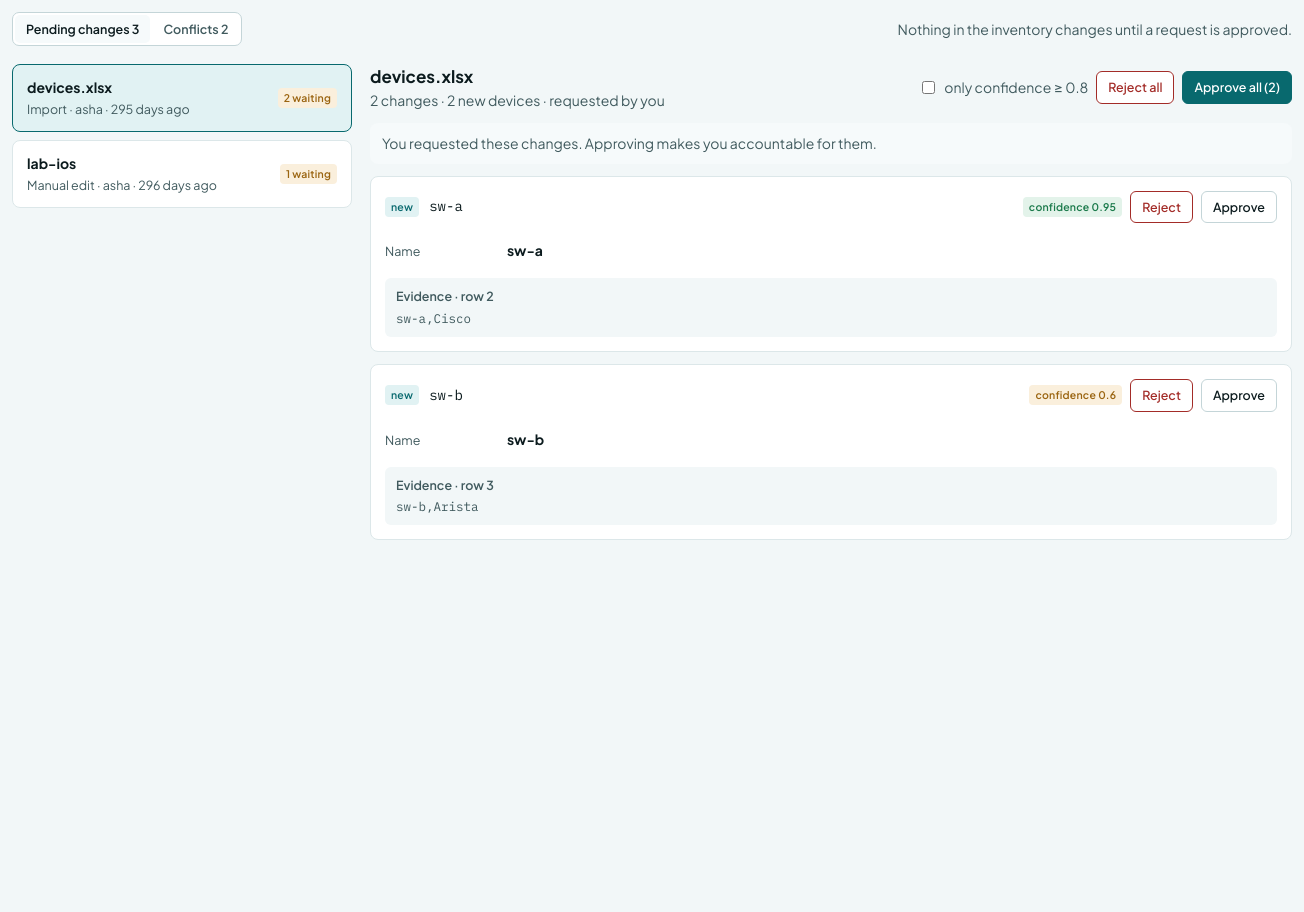
Test: Conflicts › switches queue, shows current vs observed and the counts
Click the button "Conflicts 2" at coordinates (196, 29), box [152,15,239,43]
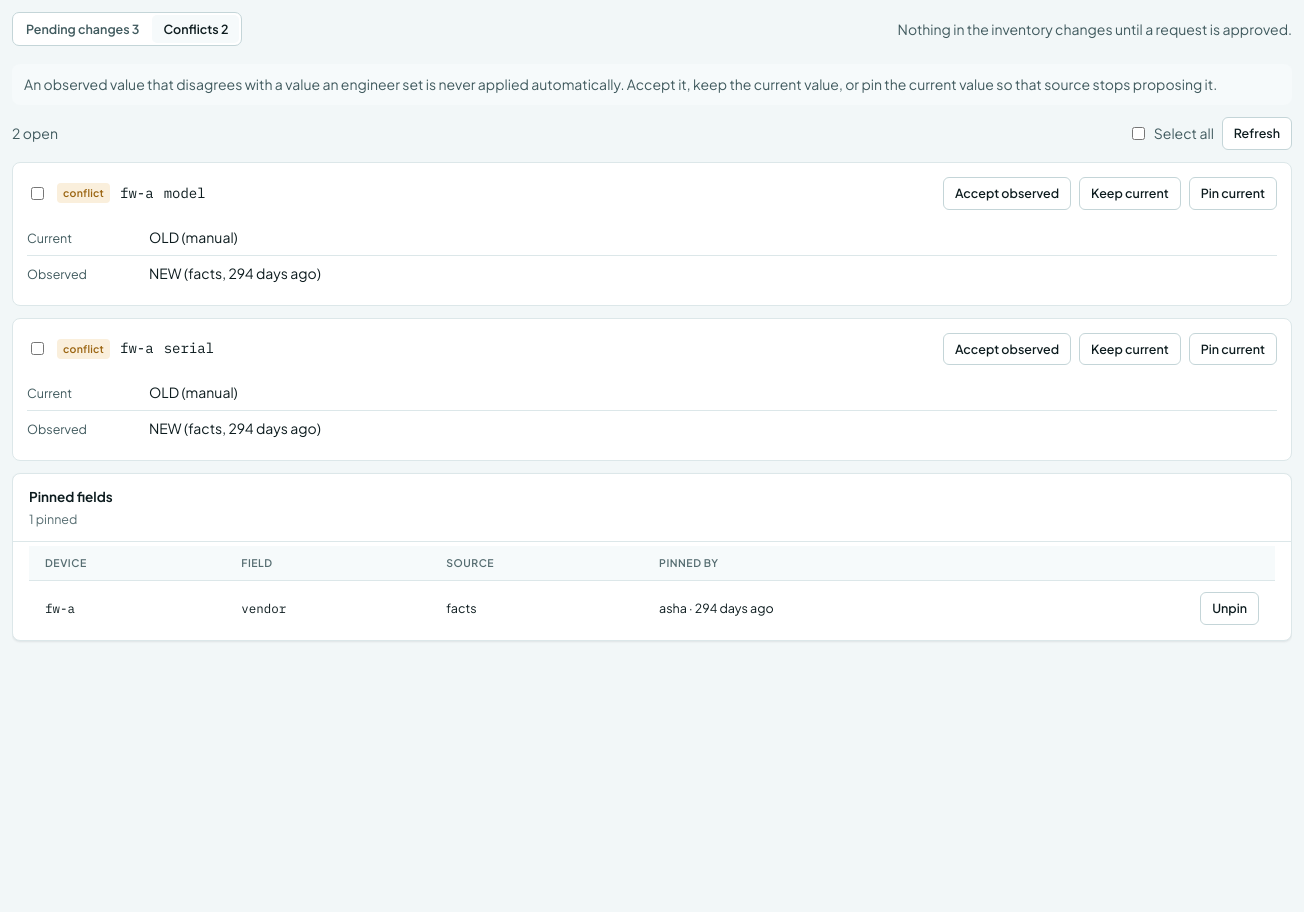
Expected: the element with test id "conflict-row-c1" shows "OLD (manual)", [149,228,238,246]
Expected: the element with test id "conflict-row-c1" shows "NEW (facts", [12,162,1292,306]
Expected: the heading "Pinned fields" is shown, [29,488,113,505]
